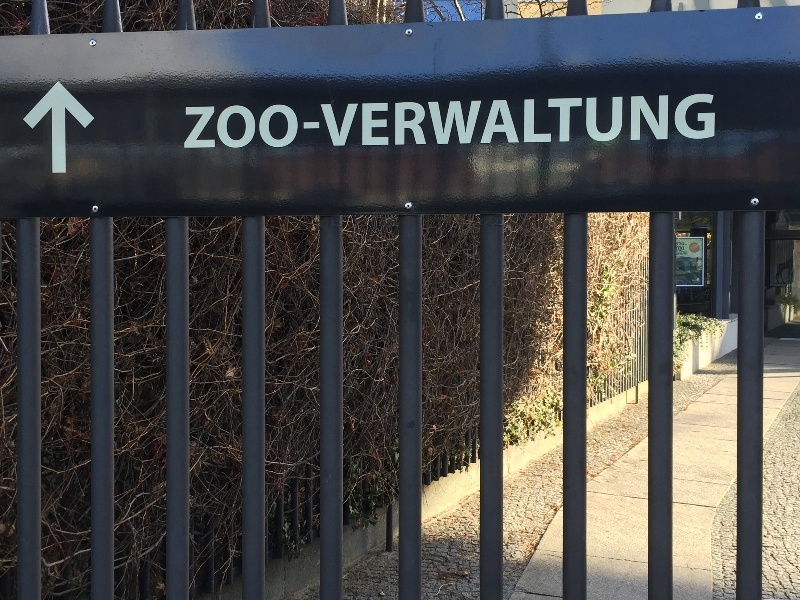text: (193, 93, 208, 150), (209, 93, 224, 150), (225, 93, 240, 150), (241, 93, 256, 150), (257, 93, 272, 150), (273, 93, 288, 150), (289, 93, 304, 150), (305, 93, 320, 150), (321, 93, 336, 150), (337, 93, 352, 150), (353, 93, 368, 150), (369, 93, 384, 150), (385, 93, 400, 150), (401, 93, 416, 150), (417, 93, 432, 150), (433, 93, 448, 150), (449, 93, 464, 150), (465, 93, 480, 150), (481, 93, 496, 150), (497, 93, 512, 150), (513, 93, 528, 150), (529, 93, 544, 150), (545, 93, 560, 150), (561, 93, 576, 150), (577, 93, 592, 150), (593, 93, 608, 150), (609, 93, 624, 150), (625, 93, 640, 150), (641, 93, 656, 150), (657, 93, 672, 150), (673, 93, 688, 150), (689, 93, 704, 150), (705, 93, 717, 150), (185, 93, 192, 150), (676, 246, 688, 252), (690, 245, 704, 250), (676, 251, 688, 255), (676, 242, 688, 246), (693, 244, 704, 245)
